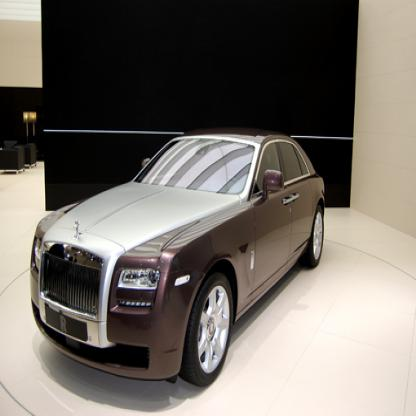Vehicle: (28, 131, 328, 389)
